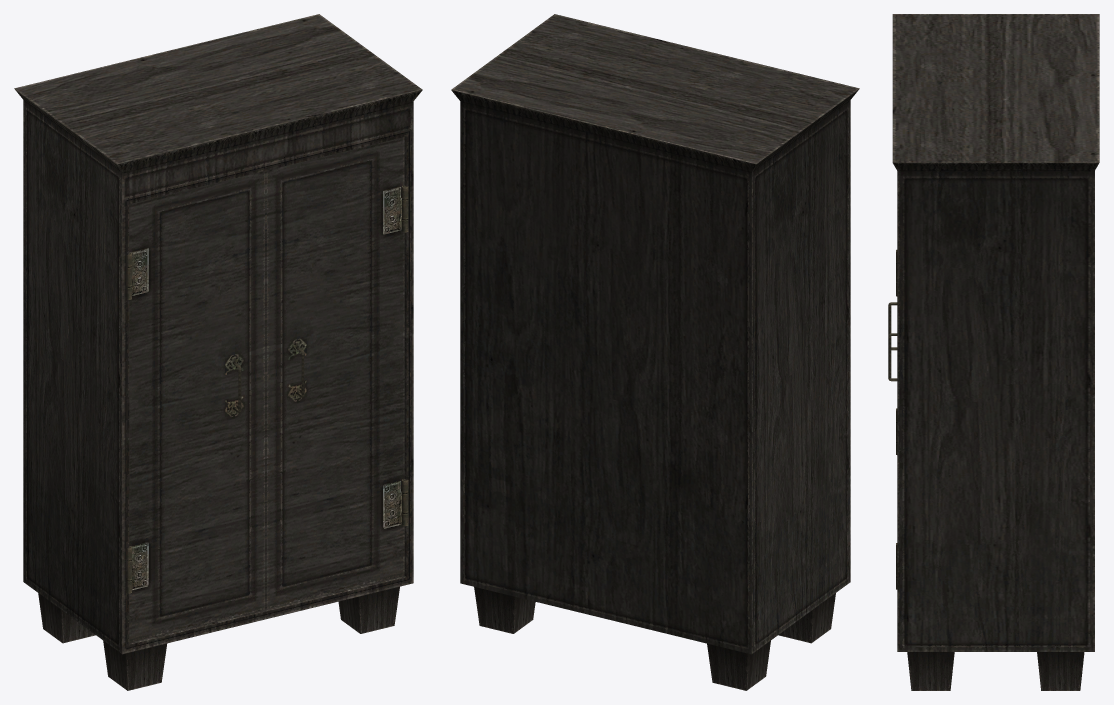
The model's file is cabinet_simple_alt.dae.
3 views of the same model, side by side, from view 1: azimuth 30°, elevation 25°; view 2: azimuth 150°, elevation 25°; view 3: azimuth 270°, elevation 25° (orthographic).
Parts seen in each view (by area): view 1: polySurface23, polySurface27, polySurface28; view 2: polySurface23; view 3: polySurface23.
Part boxes in pixels (x1,y1,x2,y2): polySurface23: [14, 14, 422, 690]; polySurface27: [266, 137, 404, 609]; polySurface28: [129, 171, 265, 642]; polySurface23: [451, 14, 859, 690]; polySurface23: [892, 14, 1099, 690].
Size of the model in its own units: 1.78 by 3 by 1.07.
Materials: 1 (1 with a texture image).
